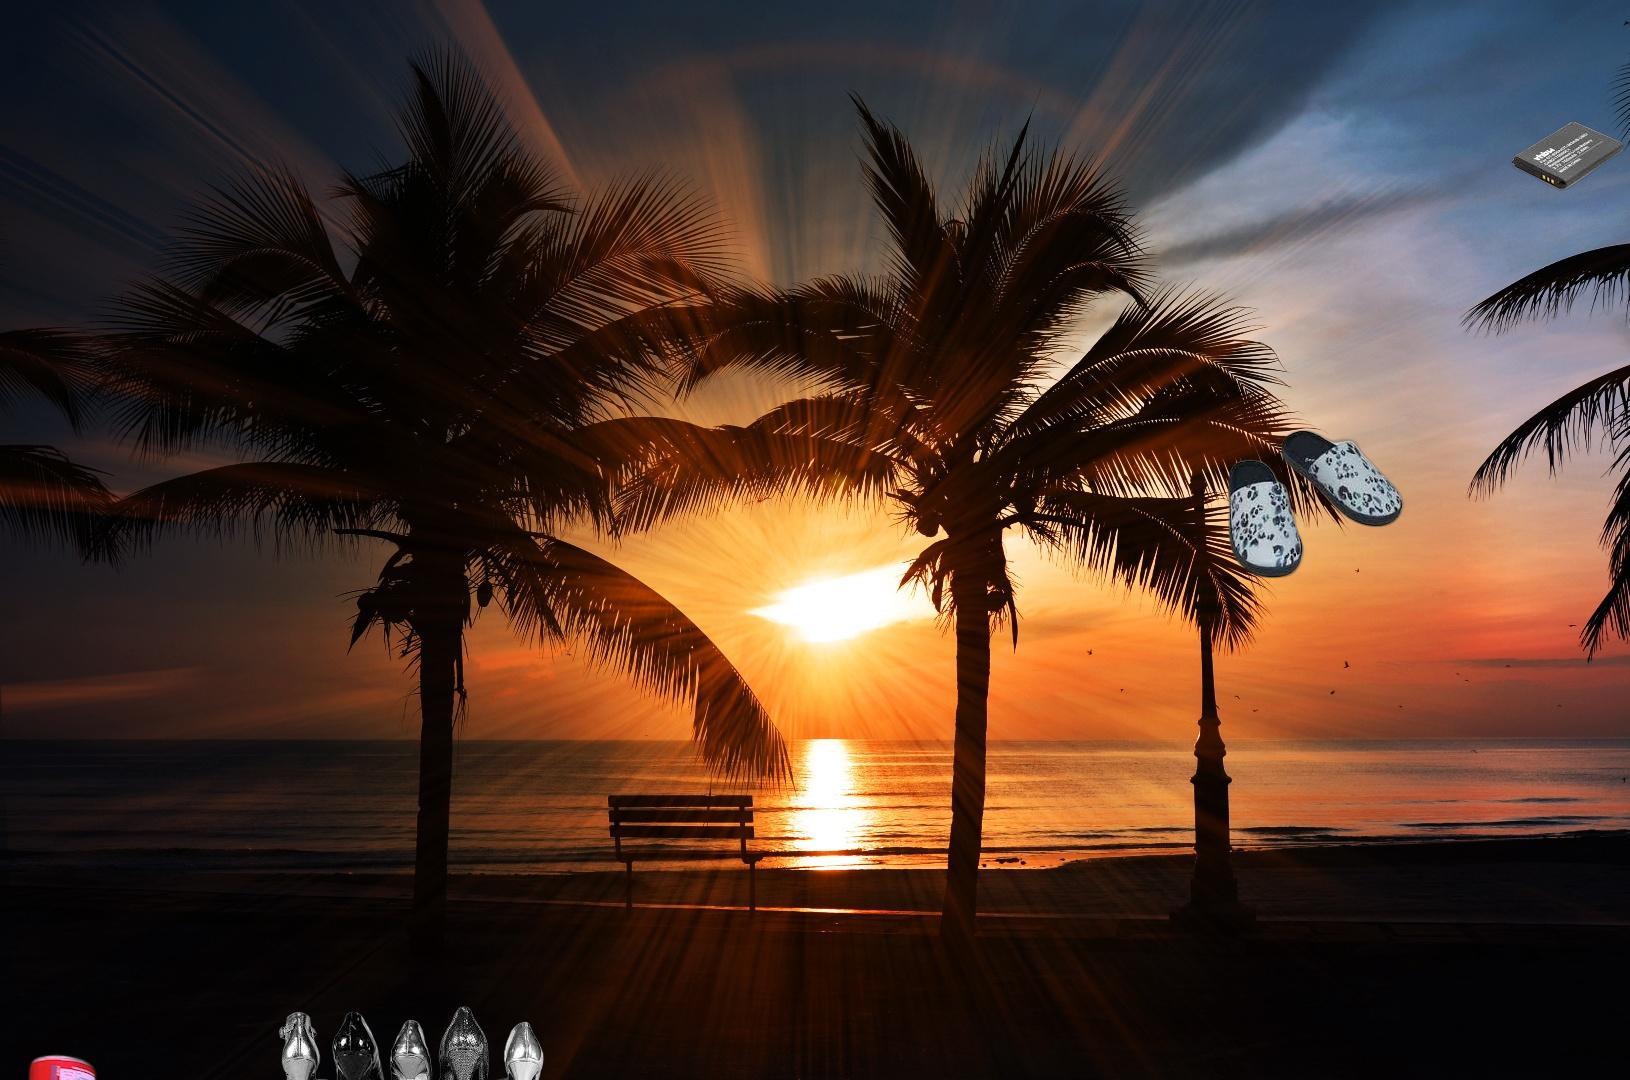battery: (1508, 119, 1626, 193)
metal-cans: (18, 1047, 102, 1080)
shoes: (1223, 428, 1407, 580), (278, 1004, 546, 1080)
